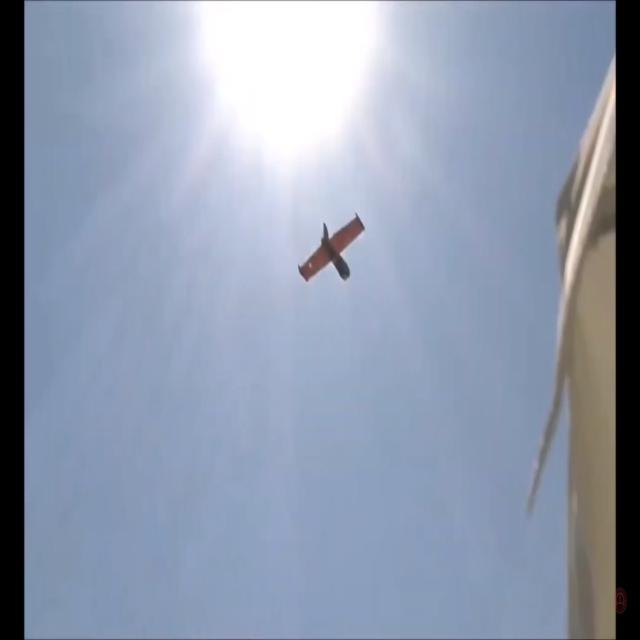iha: (323, 247, 328, 249)
